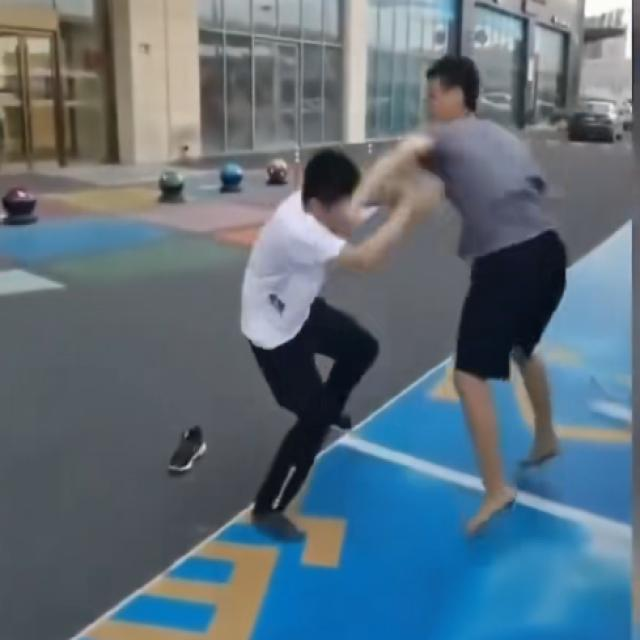fight: (280, 52, 540, 279)
